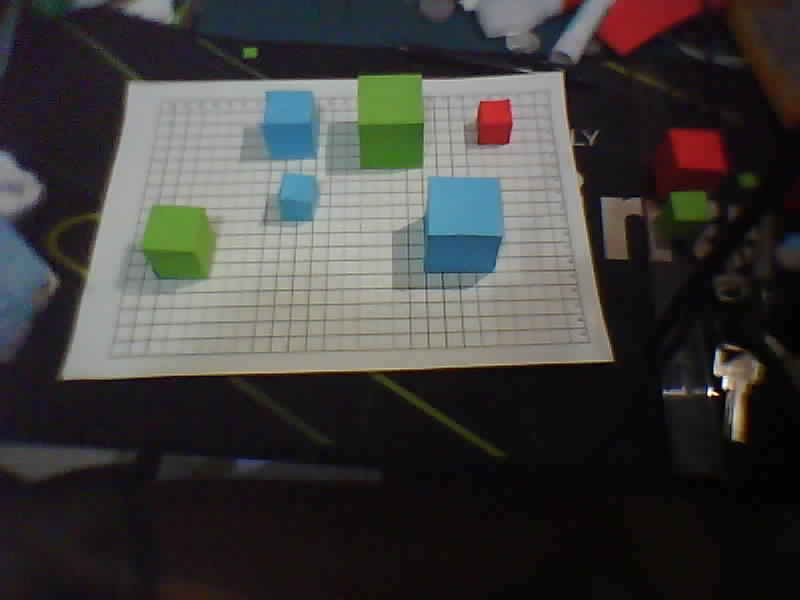LB: (105, 354, 113, 360)
LT: (155, 98, 163, 104)
RB: (585, 340, 593, 346)
RT: (545, 90, 553, 96)
